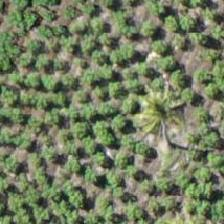coconut_tree: (120, 53, 210, 143)
